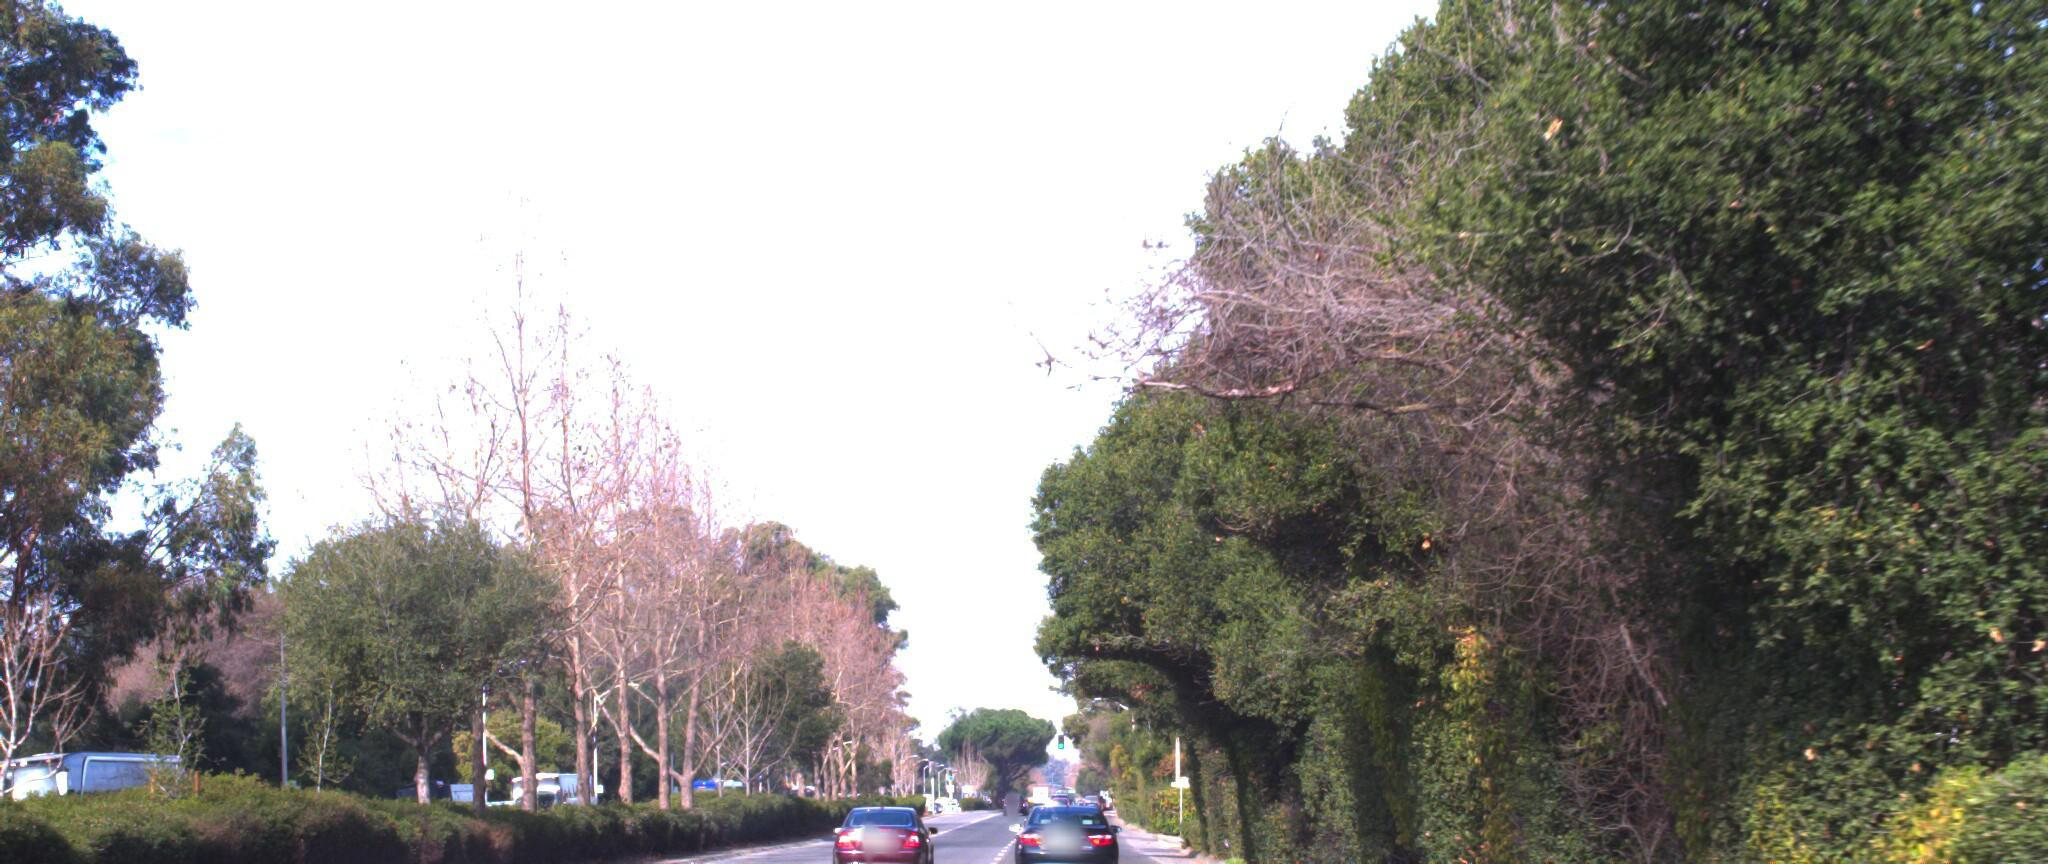car: (999, 777, 1104, 864), (828, 780, 933, 863)
